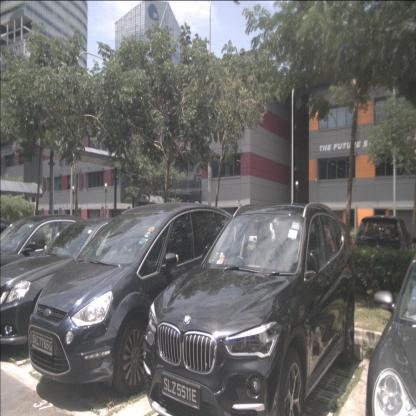vehicle-car: (142, 203, 356, 415), (27, 203, 252, 398), (0, 218, 170, 353), (0, 214, 117, 313), (365, 251, 415, 415), (352, 214, 412, 291)
